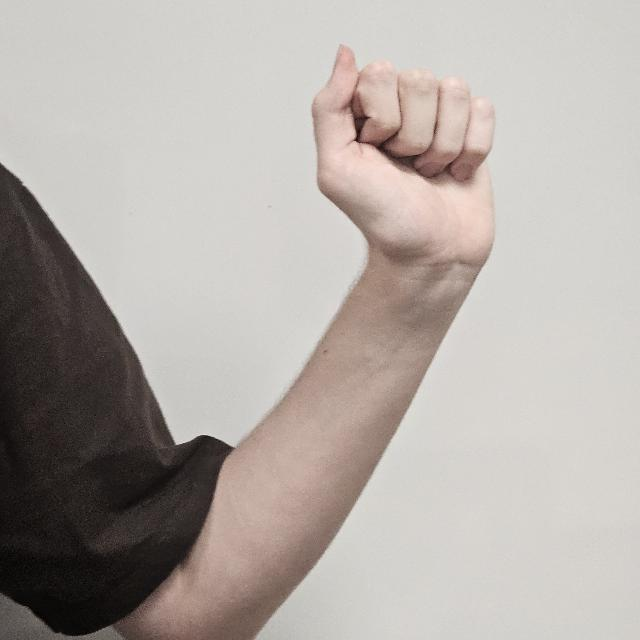Quadro: (308, 42, 500, 270)
